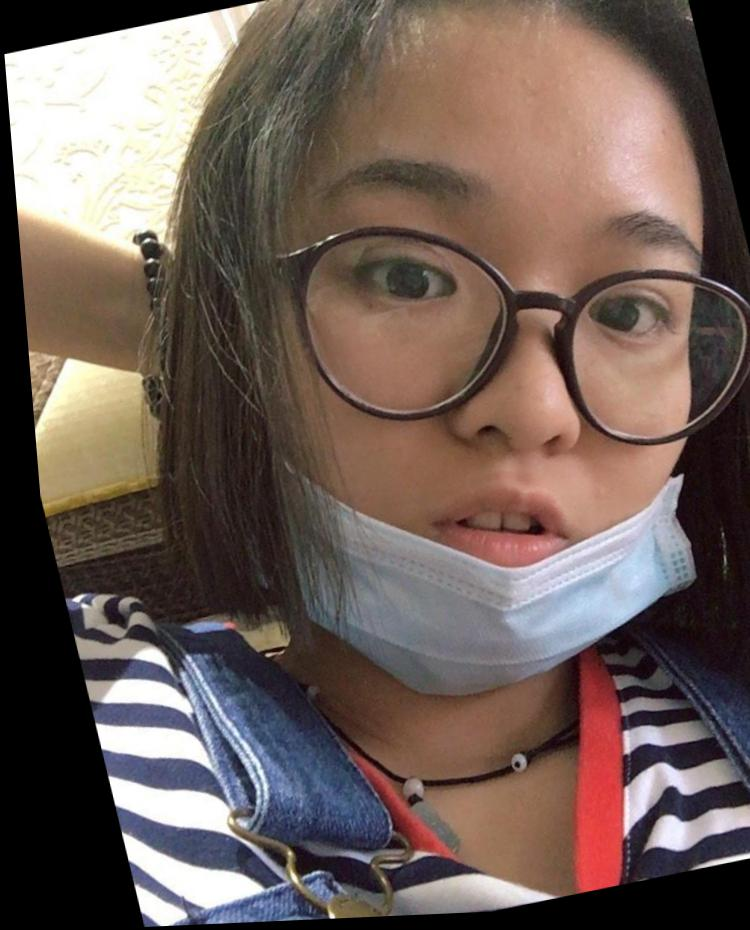WRONG: (187, 68, 750, 719)
